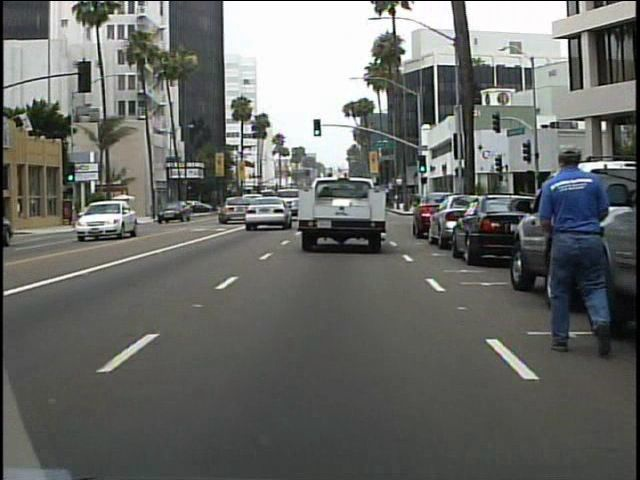person: (527, 141, 615, 365)
